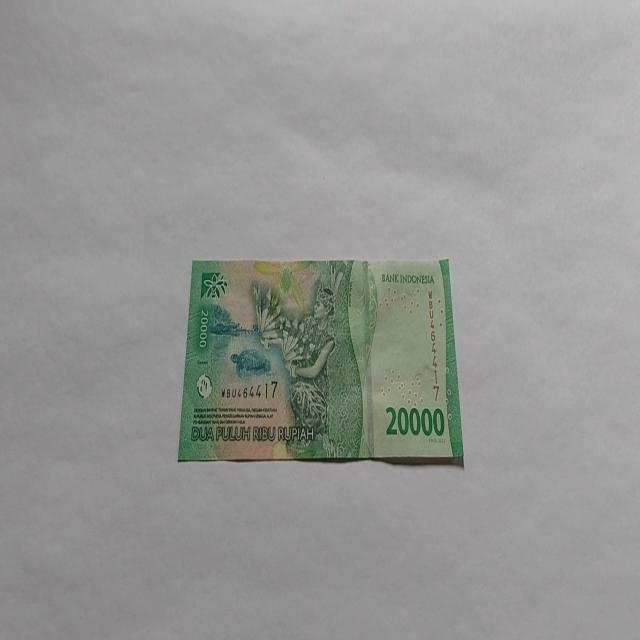dua puluh ribu rupiah: (176, 255, 464, 466)
